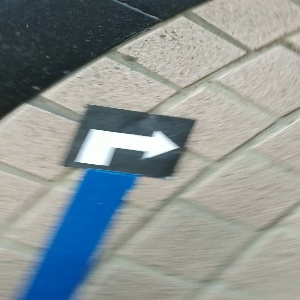right: (65, 107, 196, 179)
